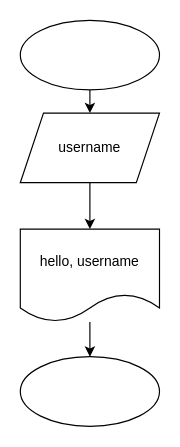
Image size: 180x447. Some labels were removed from this diagram. Here are the shapes that lost their labels. From the top down, the box of each, then its label:
(19, 19, 160, 90): начало
(19, 356, 160, 426): end
